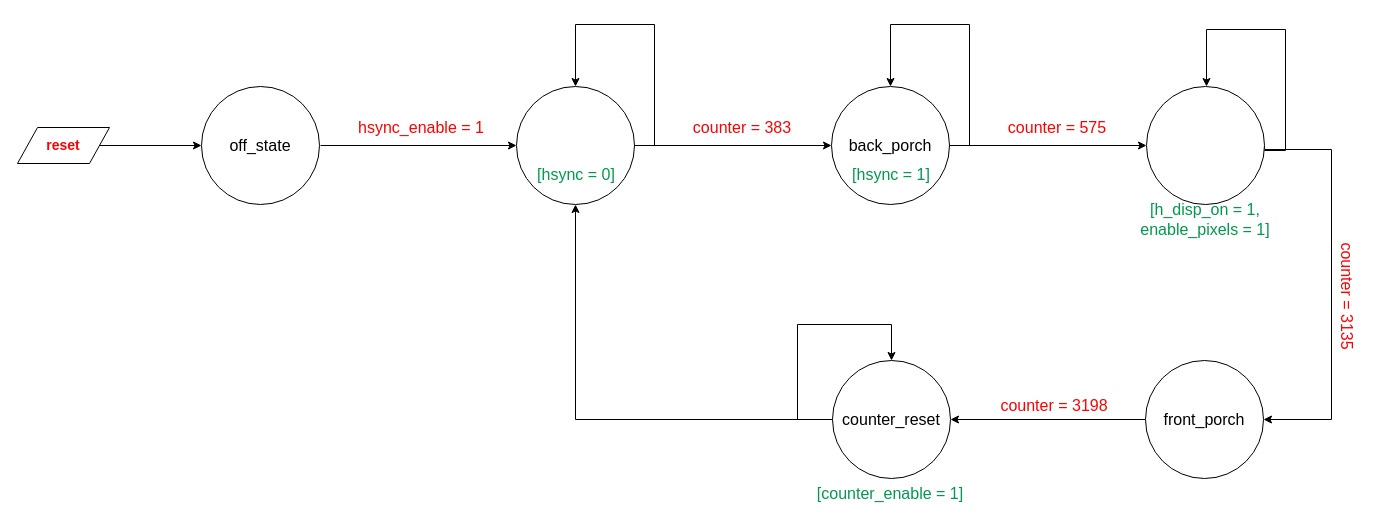
Image size: 1380x526. Some labels were removed from this diagram. The shapes that lost their labels are listed below. From the top down, each one's box as (x1, y1, x2, y2) in pixels, then its label:
(516, 86, 634, 204): width_pulse
(1146, 86, 1264, 204): display_time
